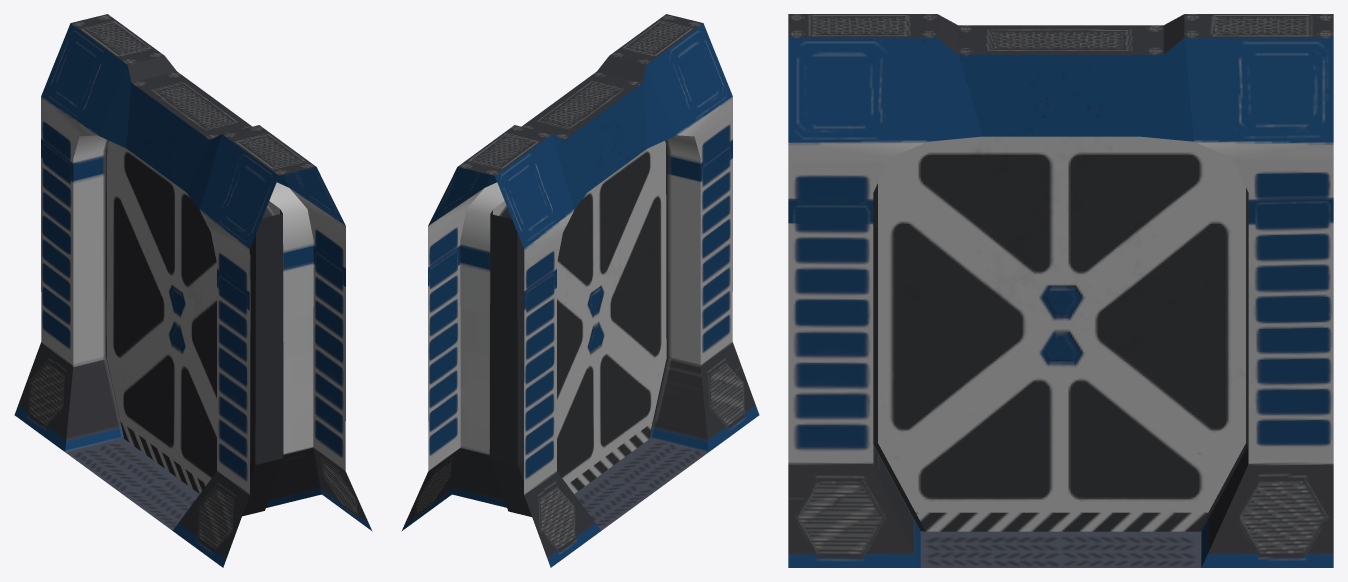
Rendered from Doorway_Sci_Fil.fbx.
3 renders of one model, left to right at view 1: azimuth 30°, elevation 25°; view 2: azimuth 150°, elevation 25°; view 3: azimuth 270°, elevation 25°, orthographic. The views are drawn at different scales.
Parts seen in each view (by area): view 1: Sci_Fil_Doorway, Sci_Fi_Door; view 2: Sci_Fil_Doorway, Sci_Fi_Door; view 3: Sci_Fil_Doorway, Sci_Fi_Door.
Boxes of the visible parts, left/top/right/bottom form: Sci_Fil_Doorway: left=14, top=14, right=372, bottom=567; Sci_Fi_Door: left=106, top=141, right=283, bottom=516; Sci_Fil_Doorway: left=401, top=14, right=759, bottom=567; Sci_Fi_Door: left=489, top=141, right=667, bottom=516; Sci_Fil_Doorway: left=788, top=14, right=1333, bottom=567; Sci_Fi_Door: left=873, top=136, right=1248, bottom=531.
Size of the model in its own units: 163 by 395 by 395.
Materials: 1 (1 with a texture image).
